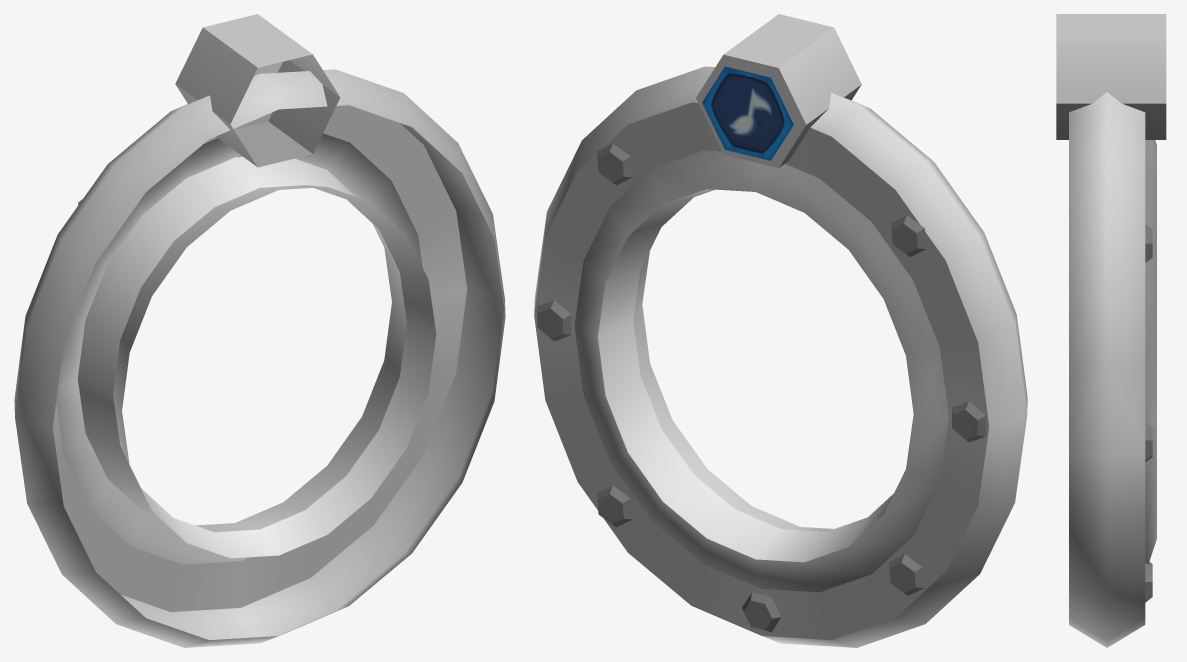
File: Portal_02.fbx
The picture shows the model from 3 angles, left to right: view 1: azimuth 30°, elevation 25°; view 2: azimuth 150°, elevation 25°; view 3: azimuth 270°, elevation 25°; orthographic projection.
Parts seen in each view (by area): view 1: Portal_02; view 2: Portal_02, Portal_icon; view 3: Portal_02.
Part boxes in pixels (x1=…): Portal_02: x1=14, y1=14, x2=505, y2=647; Portal_02: x1=534, y1=14, x2=1027, y2=647; Portal_icon: x1=702, y1=66, x2=793, y2=160; Portal_02: x1=1056, y1=14, x2=1166, y2=647.
Bounding box in the file's own units: 225 × 264 × 46.42.
